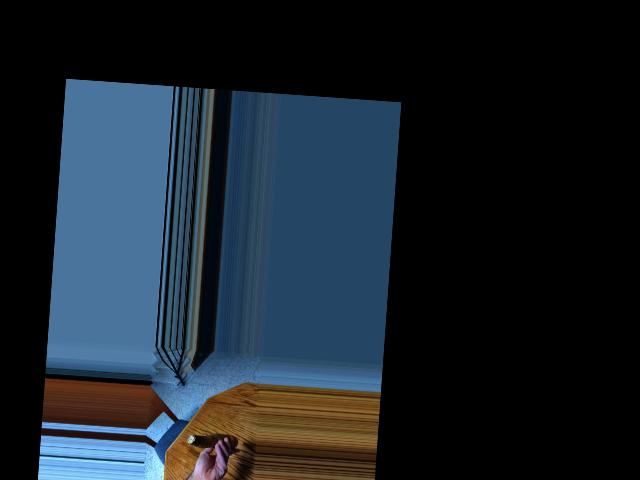sweet_potato: (192, 427, 234, 449)
